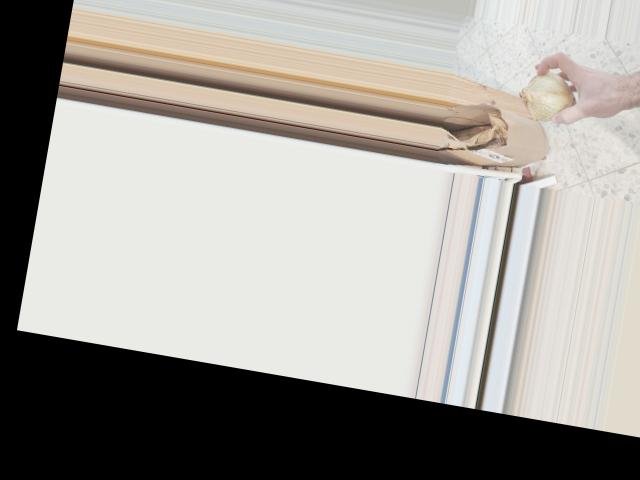onion: (513, 65, 584, 129)
